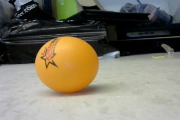PingPongBall: (35, 37, 99, 94)
